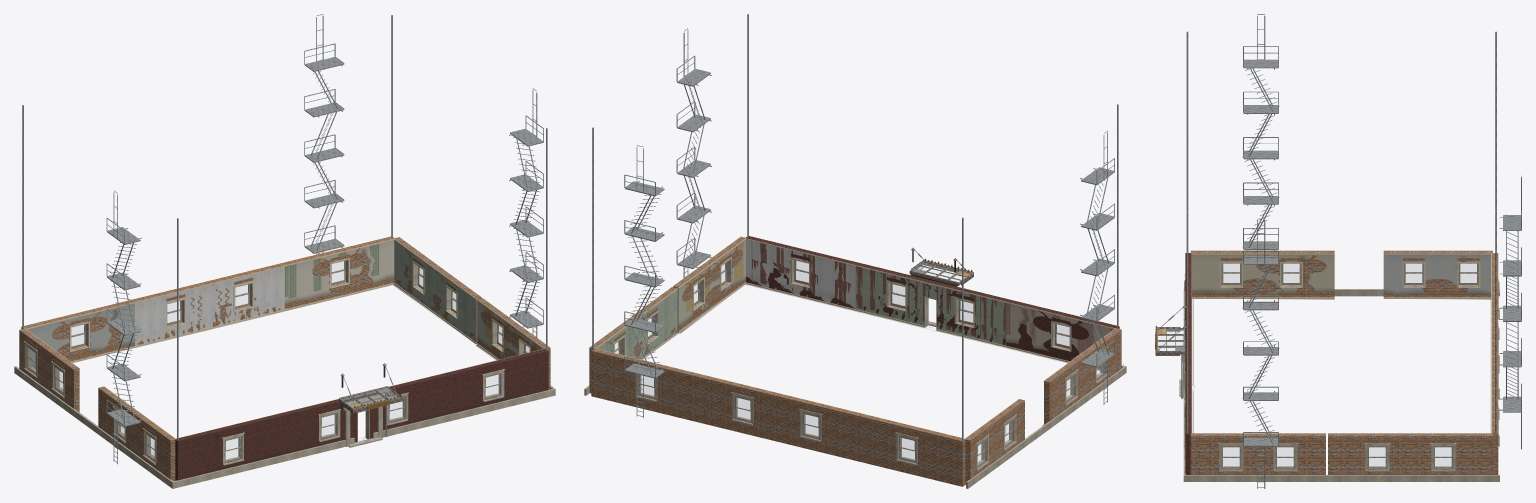
The model's file is orison_facade_shell.gltf.
The picture shows the model from 3 angles, left to right: view 1: azimuth 30°, elevation 25°; view 2: azimuth 150°, elevation 25°; view 3: azimuth 270°, elevation 25°; orthographic projection.
Visible parts, largest first — view 1: F01_OWN_FACADE_walls_cbrick-col, F01_OWN_FACADE_walls_fbrick-col, F01_OWN_FACADE_furnish_metal, F01_OWN_FACADE_finish_f01_w09, F01_OWN_FACADE_furniture_limestone-col, F01_OWN_FACADE_stone_trim-col, F01_OWN_FACADE_trim, F01_OWN_FACADE_finish_f01_w05, F01_OWN_FACADE_finish_f01_w04, F01_OWN_FACADE_glazing-col, F01_OWN_FACADE_finish_f01_w03, F01_OWN_FACADE_facade_rainwater (+3 smaller); view 2: F01_OWN_FACADE_walls_cbrick-col, F01_OWN_FACADE_furnish_metal, F01_OWN_FACADE_finish_f01_w08, F01_OWN_FACADE_walls_fbrick-col, F01_OWN_FACADE_finish_f01_w07, F01_OWN_FACADE_stone_trim-col, F01_OWN_FACADE_trim, F01_OWN_FACADE_glazing-col, F01_OWN_FACADE_finish_f01_w01, F01_OWN_FACADE_sash-col, F01_OWN_FACADE_facade_rainwater, F01_OWN_FACADE_finish_f01_w04 (+3 smaller); view 3: F01_OWN_FACADE_walls_cbrick-col, F01_OWN_FACADE_furnish_metal, F01_OWN_FACADE_furniture_limestone-col, F01_OWN_FACADE_finish_f01_w00, F01_OWN_FACADE_finish_f01_w02, F01_OWN_FACADE_glazing-col, F01_OWN_FACADE_stone_trim-col, F01_OWN_FACADE_trim, F01_OWN_FACADE_facade_rainwater, F01_OWN_FACADE_sash-col, F01_OWN_FACADE_walls_fbrick-col, F01_OWN_FACADE_furnish_cast_iron.
Part boxes in pixels (x1,y1,x2,y2): F01_OWN_FACADE_walls_cbrick-col: [19, 236, 550, 481]; F01_OWN_FACADE_walls_fbrick-col: [175, 348, 548, 480]; F01_OWN_FACADE_furnish_metal: [106, 14, 543, 464]; F01_OWN_FACADE_finish_f01_w09: [135, 267, 284, 345]; F01_OWN_FACADE_furniture_limestone-col: [14, 366, 555, 488]; F01_OWN_FACADE_stone_trim-col: [23, 259, 529, 465]; F01_OWN_FACADE_trim: [25, 238, 544, 459]; F01_OWN_FACADE_finish_f01_w05: [284, 240, 394, 304]; F01_OWN_FACADE_finish_f01_w04: [394, 240, 476, 342]; F01_OWN_FACADE_glazing-col: [28, 261, 529, 460]; F01_OWN_FACADE_finish_f01_w03: [27, 303, 134, 368]; F01_OWN_FACADE_facade_rainwater: [22, 15, 547, 440]; F01_OWN_FACADE_walls_cbrick-col: [589, 236, 1121, 486]; F01_OWN_FACADE_furnish_metal: [624, 28, 1114, 418]; F01_OWN_FACADE_finish_f01_w08: [855, 266, 1005, 345]; F01_OWN_FACADE_walls_fbrick-col: [746, 236, 1119, 368]; F01_OWN_FACADE_finish_f01_w07: [746, 239, 855, 308]; F01_OWN_FACADE_stone_trim-col: [614, 259, 1108, 470]; F01_OWN_FACADE_trim: [595, 238, 1115, 462]; F01_OWN_FACADE_glazing-col: [615, 261, 1103, 464]; F01_OWN_FACADE_finish_f01_w01: [1005, 303, 1113, 359]; F01_OWN_FACADE_sash-col: [615, 260, 1105, 467]; F01_OWN_FACADE_facade_rainwater: [592, 14, 1118, 440]; F01_OWN_FACADE_finish_f01_w04: [597, 290, 677, 359]; F01_OWN_FACADE_walls_cbrick-col: [1190, 250, 1498, 474]; F01_OWN_FACADE_furnish_metal: [1159, 14, 1521, 488]; F01_OWN_FACADE_furniture_limestone-col: [1179, 289, 1499, 481]; F01_OWN_FACADE_finish_f01_w00: [1192, 254, 1334, 295]; F01_OWN_FACADE_finish_f01_w02: [1383, 254, 1491, 295]; F01_OWN_FACADE_glazing-col: [1223, 264, 1476, 466]; F01_OWN_FACADE_stone_trim-col: [1183, 263, 1499, 471]; F01_OWN_FACADE_trim: [1191, 253, 1491, 466]; F01_OWN_FACADE_facade_rainwater: [1186, 31, 1496, 433]; F01_OWN_FACADE_sash-col: [1221, 263, 1478, 469]; F01_OWN_FACADE_walls_fbrick-col: [1184, 253, 1191, 474]; F01_OWN_FACADE_furnish_cast_iron: [1155, 305, 1186, 355].
Bounding box in the file's own units: 30.92 × 19.22 × 23.43.
Materials: 25 (24 with a texture image).
